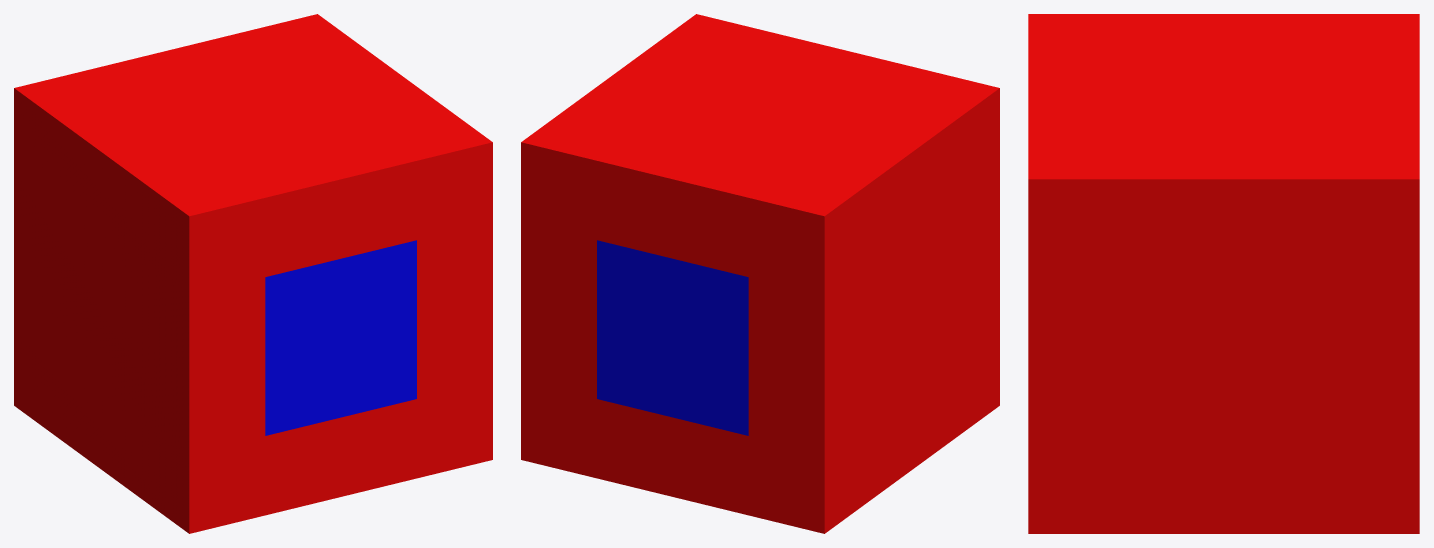
3 views of the same model, side by side, from view 1: azimuth 30°, elevation 25°; view 2: azimuth 150°, elevation 25°; view 3: azimuth 270°, elevation 25° (orthographic). The views are drawn at different scales.
Parts seen in each view (by area): view 1: mesh (×9); view 2: mesh (×9); view 3: mesh (×5).
Part boxes in pixels (bbox=[...]): mesh (×9): bbox=[14, 14, 492, 533]; mesh (×9): bbox=[521, 14, 999, 533]; mesh (×5): bbox=[1028, 14, 1419, 533].
Size of the model in its own units: 4 by 4 by 4.
